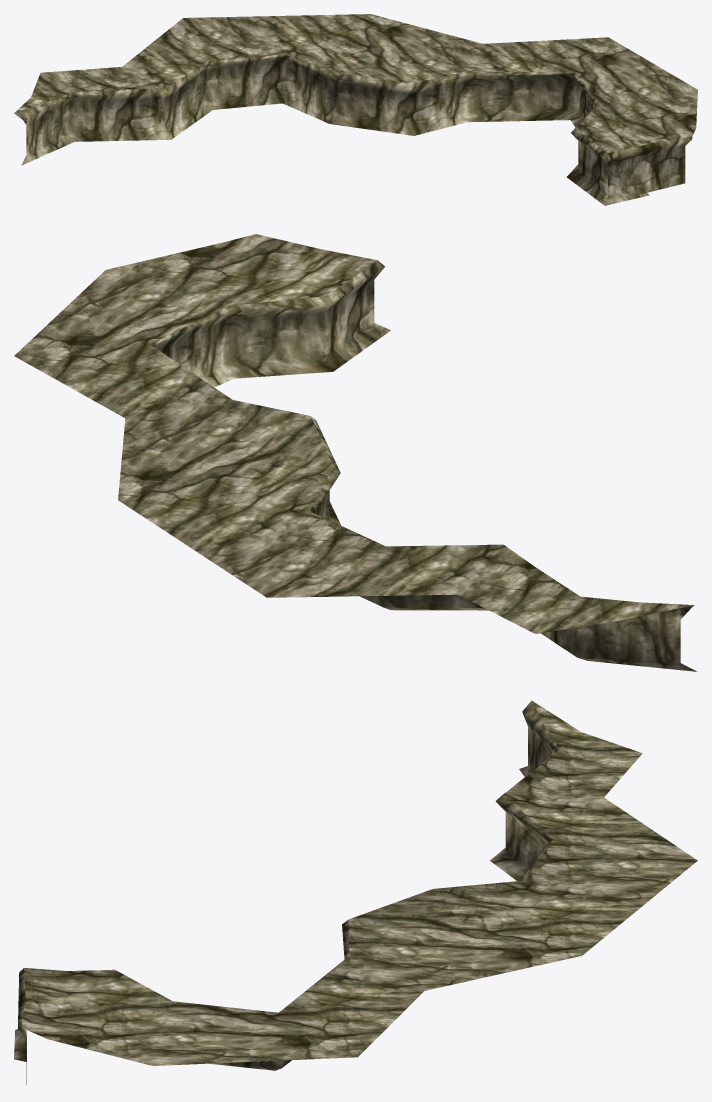
The model's file is CB_NEWPLAYSURFACE_CB_PLAYSURFACE133.fbx.
The picture shows the model from 3 angles, top to bottom: view 1: azimuth 30°, elevation 25°; view 2: azimuth 150°, elevation 25°; view 3: azimuth 270°, elevation 25°; orthographic projection. The views are drawn at different scales.
Parts seen in each view (by area): view 1: CB_NEWPLAYSURFACE_CB_PLAYSURFACE133; view 2: CB_NEWPLAYSURFACE_CB_PLAYSURFACE133; view 3: CB_NEWPLAYSURFACE_CB_PLAYSURFACE133.
Part boxes in pixels (x1,y1,x2,y2): CB_NEWPLAYSURFACE_CB_PLAYSURFACE133: [14, 14, 697, 205]; CB_NEWPLAYSURFACE_CB_PLAYSURFACE133: [14, 234, 697, 671]; CB_NEWPLAYSURFACE_CB_PLAYSURFACE133: [14, 700, 697, 1084].
Size of the model in its own units: 316014 by 28369 by 255672.
2 materials, 2 textured.
